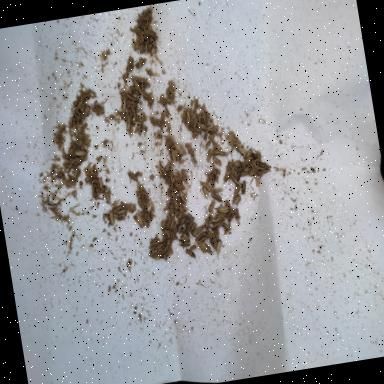pbw: (214, 239, 224, 259), (180, 168, 190, 188), (184, 246, 196, 262), (180, 226, 193, 240), (157, 162, 168, 178), (238, 178, 249, 194), (207, 198, 218, 214), (228, 160, 238, 177), (210, 190, 223, 203), (174, 142, 186, 156), (126, 168, 138, 182), (228, 173, 240, 187), (151, 246, 163, 260), (200, 180, 212, 194), (168, 186, 178, 202), (124, 56, 134, 72), (167, 228, 179, 241), (132, 77, 141, 94), (170, 147, 180, 162), (200, 185, 210, 200), (135, 212, 144, 228), (142, 90, 154, 102), (224, 208, 236, 220), (107, 210, 116, 226), (216, 204, 230, 214), (204, 226, 214, 240), (186, 142, 196, 156), (222, 168, 232, 182), (191, 226, 205, 236), (194, 230, 208, 240), (62, 176, 76, 186), (147, 28, 158, 40), (236, 144, 247, 156), (179, 231, 190, 243), (178, 237, 190, 248), (178, 189, 188, 202), (82, 104, 92, 117), (69, 156, 82, 166), (161, 248, 174, 258), (120, 96, 128, 112), (244, 146, 254, 158), (150, 36, 158, 51), (208, 168, 218, 180), (116, 109, 126, 121), (212, 155, 222, 167), (258, 160, 270, 170), (213, 226, 220, 243), (255, 148, 262, 164), (212, 220, 226, 228), (180, 108, 188, 122), (212, 149, 226, 157), (170, 220, 178, 234), (209, 238, 217, 252), (184, 220, 194, 231), (226, 212, 236, 223), (166, 184, 176, 195), (232, 185, 242, 196), (222, 221, 232, 232), (174, 180, 185, 190), (207, 125, 219, 134), (216, 211, 228, 220), (184, 110, 191, 125), (166, 211, 173, 226), (139, 77, 146, 92), (204, 110, 211, 125), (256, 169, 269, 177), (142, 189, 150, 202), (127, 84, 137, 94), (157, 168, 166, 179), (187, 223, 198, 232), (95, 186, 106, 195), (231, 195, 240, 206), (121, 200, 128, 214), (160, 234, 167, 248), (90, 184, 97, 198), (125, 96, 132, 110), (168, 216, 176, 228), (235, 164, 243, 176), (201, 128, 209, 140), (203, 216, 211, 228), (208, 213, 216, 225), (92, 174, 100, 186), (211, 140, 219, 152), (166, 238, 174, 250), (190, 154, 198, 166), (74, 148, 86, 156), (206, 149, 213, 162), (234, 207, 240, 222), (160, 219, 166, 234), (242, 163, 252, 172), (224, 199, 232, 210), (213, 186, 224, 194), (250, 159, 258, 170), (188, 106, 195, 118), (118, 87, 130, 94), (166, 136, 173, 148), (213, 171, 220, 183), (164, 118, 171, 130), (125, 116, 131, 130), (230, 132, 236, 146), (133, 25, 140, 37), (142, 216, 149, 228), (164, 162, 172, 172), (204, 140, 212, 150), (176, 222, 184, 232), (112, 204, 122, 212), (166, 207, 176, 215), (72, 168, 80, 178), (84, 166, 92, 176), (180, 216, 190, 224), (126, 202, 136, 210), (231, 160, 241, 168), (164, 218, 170, 231), (200, 112, 206, 125), (164, 238, 171, 249), (138, 32, 145, 43), (198, 236, 209, 243), (157, 120, 163, 132), (138, 198, 144, 210), (176, 170, 182, 182), (136, 124, 142, 136), (160, 116, 166, 128), (192, 101, 198, 113), (208, 131, 216, 140), (76, 99, 84, 108), (128, 123, 134, 135), (98, 176, 104, 188), (131, 106, 137, 118), (162, 202, 171, 210), (199, 122, 208, 130), (244, 156, 252, 165), (210, 176, 216, 188), (168, 170, 174, 182), (149, 243, 159, 250), (133, 40, 140, 50), (148, 249, 158, 256), (256, 164, 266, 171), (192, 117, 198, 128), (204, 174, 210, 185), (68, 116, 74, 127), (128, 110, 134, 121), (136, 18, 144, 26), (250, 152, 258, 160), (136, 114, 144, 122), (140, 123, 148, 131), (74, 113, 82, 121), (186, 212, 194, 220), (191, 131, 199, 139), (156, 242, 164, 250), (116, 208, 125, 215), (227, 134, 232, 146), (115, 214, 125, 220), (174, 210, 180, 220), (104, 192, 110, 202), (196, 126, 202, 136), (80, 102, 86, 112), (143, 198, 148, 210), (196, 113, 202, 123), (240, 162, 247, 170), (188, 244, 196, 251), (168, 202, 175, 210), (249, 168, 256, 176), (146, 44, 153, 52), (164, 178, 172, 185), (170, 176, 177, 184), (150, 118, 156, 127), (132, 119, 141, 125), (144, 37, 150, 46), (240, 170, 249, 176), (136, 181, 141, 191), (149, 209, 154, 219), (135, 190, 143, 196), (72, 108, 78, 116), (173, 202, 179, 210), (84, 176, 92, 182), (188, 124, 194, 132), (181, 202, 187, 210), (164, 107, 169, 116), (152, 118, 158, 125), (134, 171, 140, 178), (180, 206, 184, 213)
